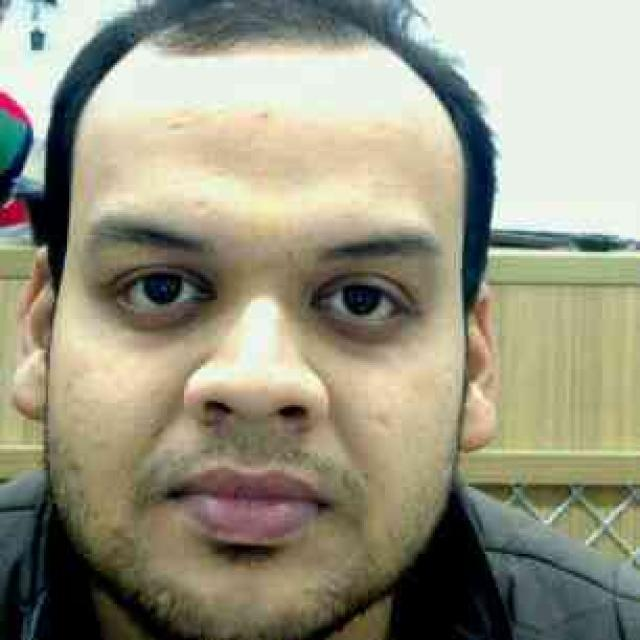puffy_eyes: (110, 300, 217, 351), (305, 321, 386, 361)
